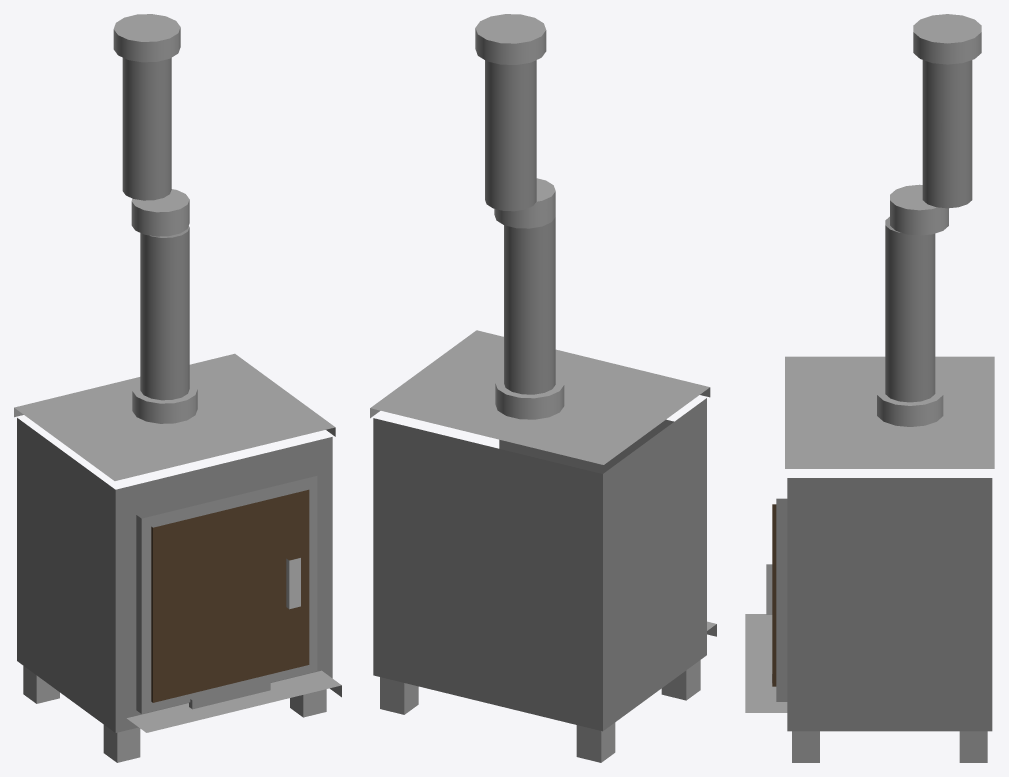
File: woodStove.glb
The picture shows the model from 3 angles, left to right: view 1: azimuth 30°, elevation 25°; view 2: azimuth 150°, elevation 25°; view 3: azimuth 270°, elevation 25°; orthographic projection. The views are drawn at different scales.
Bounding box in the file's own units: 0.57 × 1.61 × 0.535.
